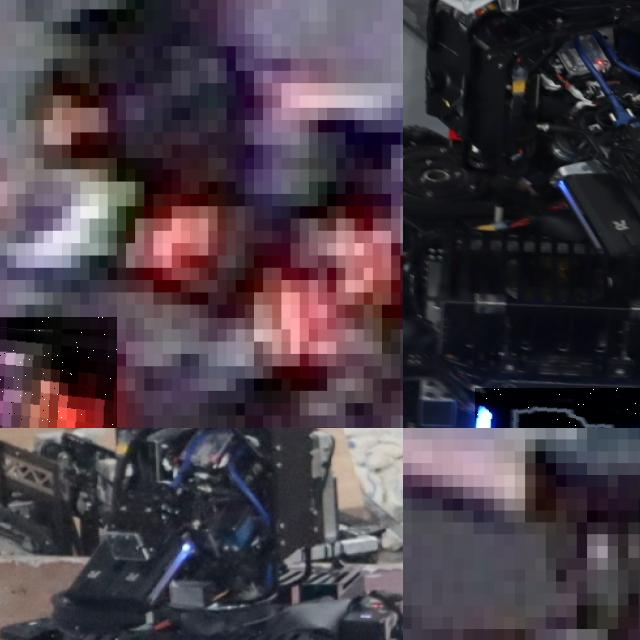Bs: (475, 388, 640, 428)
R3: (0, 317, 116, 428)
